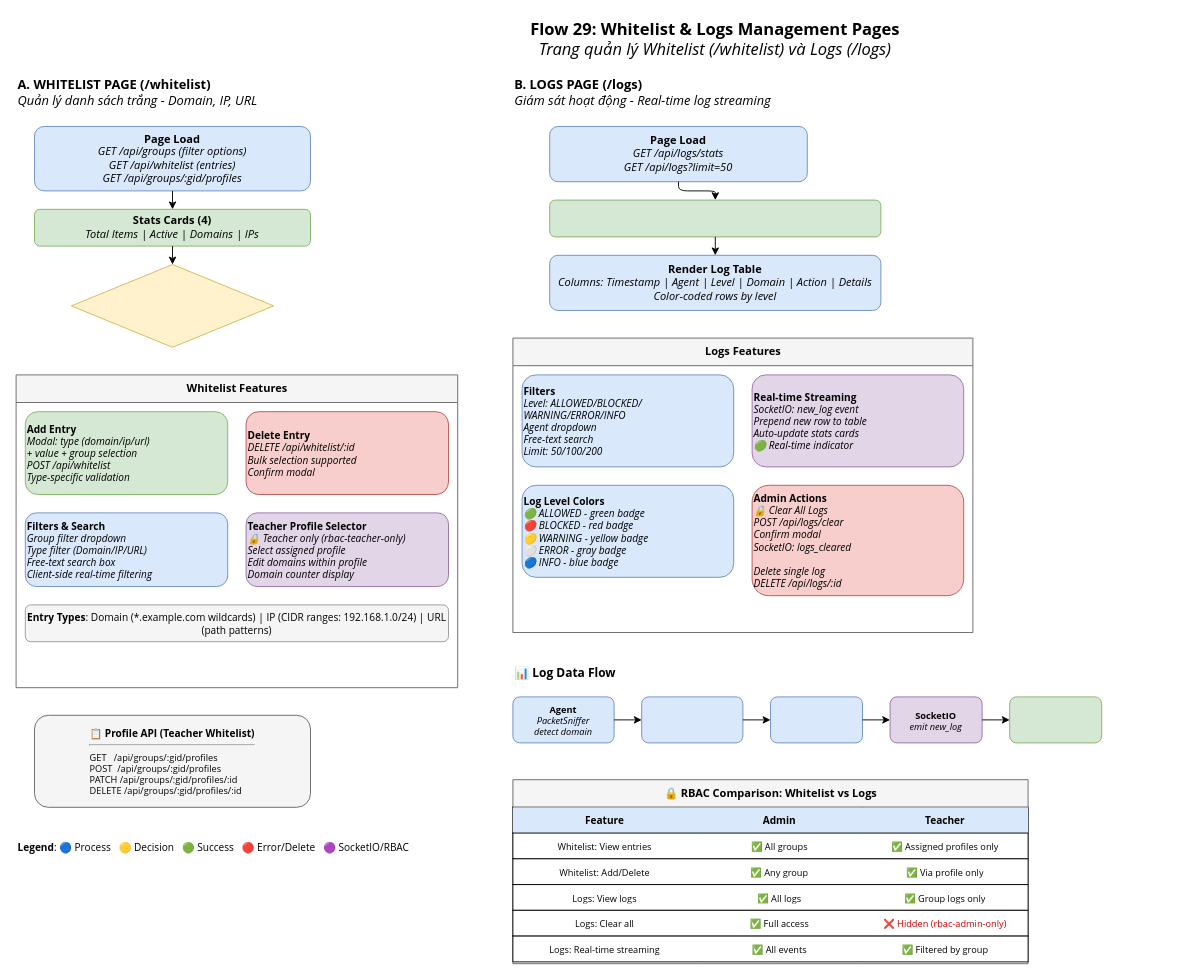
The diagram is 1191 pixels wide and 980 high, and some of its shapes have lost their labels. Each missing label, with the centre of its shape:
"Logs Page Prepend row" belongs at [1055,719].
"LogSender Queue → batch POST /api/logs" belongs at [692,719].
"RBAC Check Admin → full CRUD Teacher → profile-based edit only" belongs at [172,305].
"Server Normalize Save MongoDB" belongs at [816,719].
"Stats Cards (4) Total | Allowed 🟢 | Blocked 🔴 | Warnings 🟡" belongs at [715,218].
